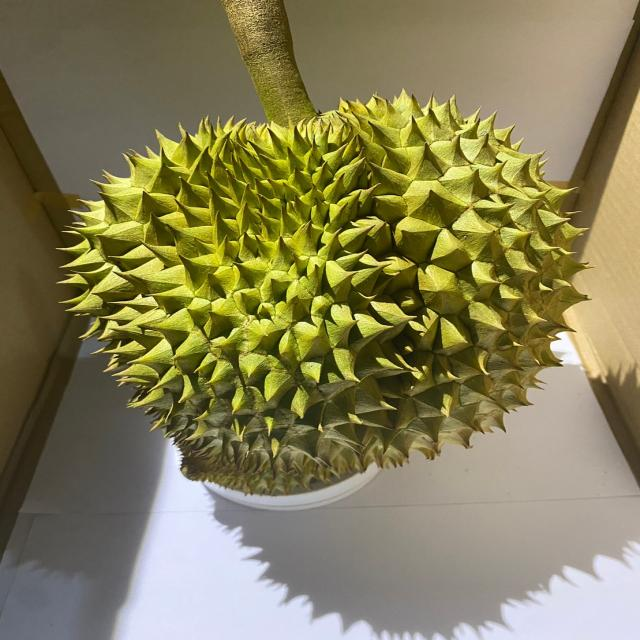immature: (52, 89, 596, 493)
